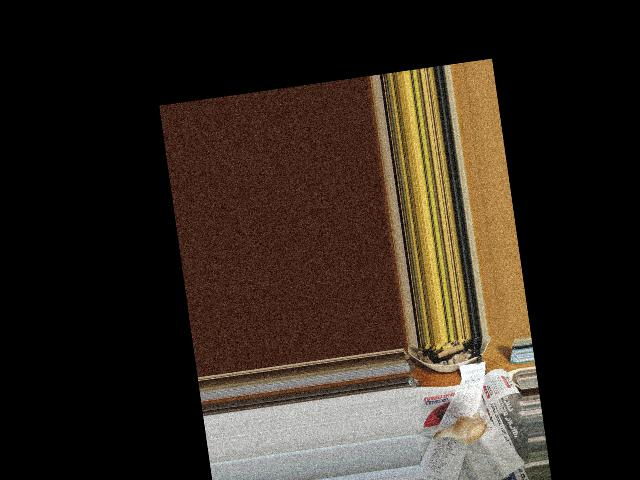onion: (447, 413, 485, 444)
